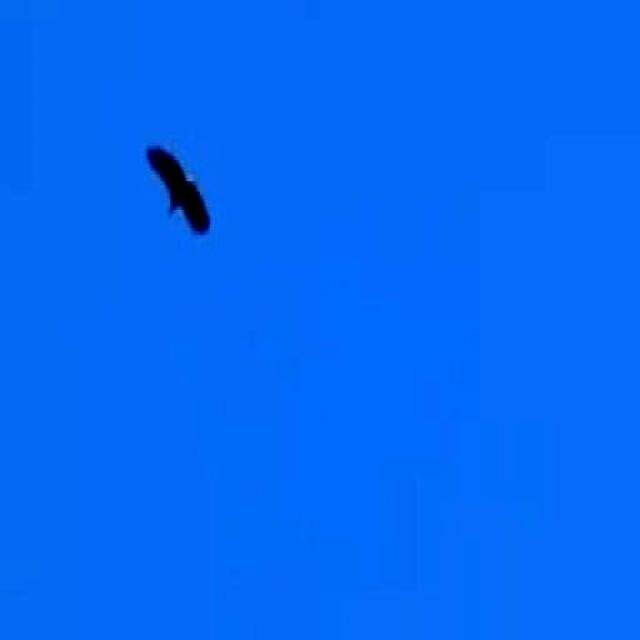airplane: (132, 122, 229, 260)
